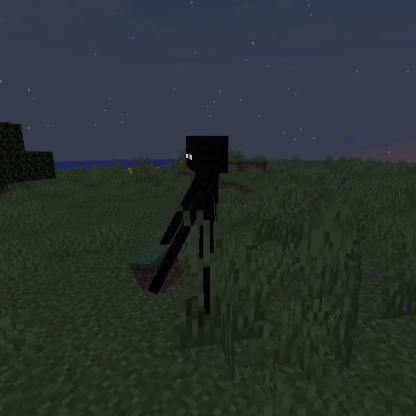enderman: (146, 132, 232, 318)
